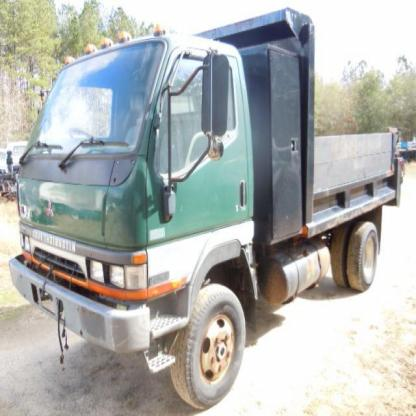truck: (10, 4, 407, 411)
